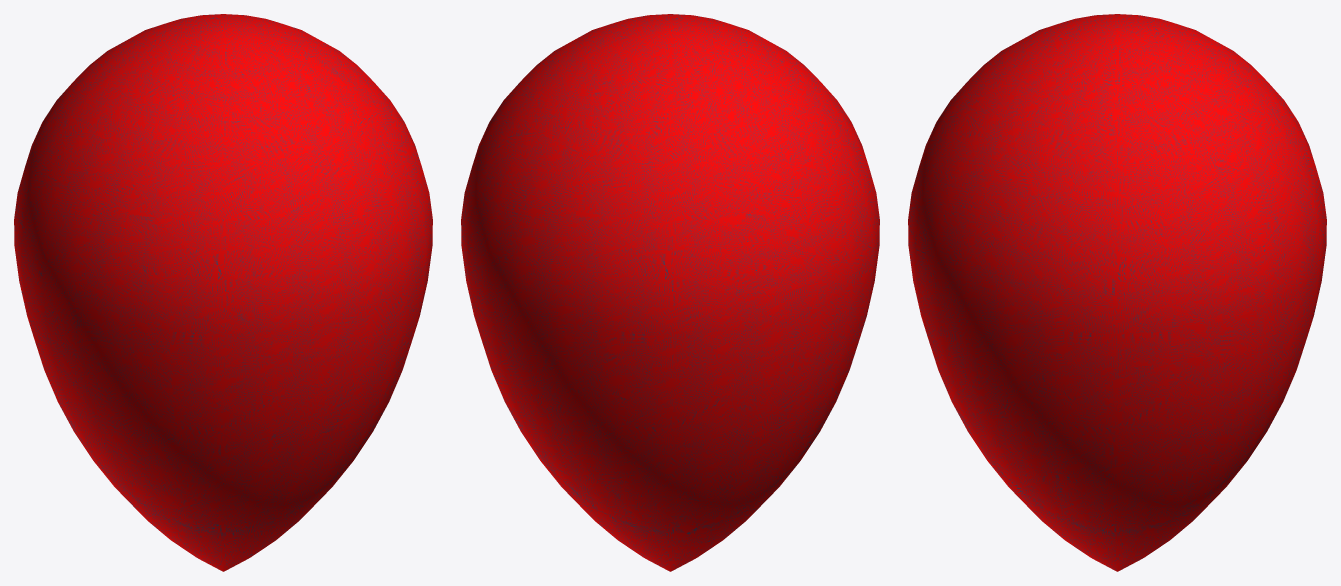
3 views of the same model, side by side, from view 1: azimuth 30°, elevation 25°; view 2: azimuth 150°, elevation 25°; view 3: azimuth 270°, elevation 25° (orthographic).
Visible parts, largest first — view 1: SketchUp; view 2: SketchUp; view 3: SketchUp.
Part boxes in pixels (<box>): SketchUp: <box>14,14,432,571</box>; SketchUp: <box>461,14,879,571</box>; SketchUp: <box>908,14,1326,571</box>.
Bounding box in the file's own units: 129 × 129 × 184.
